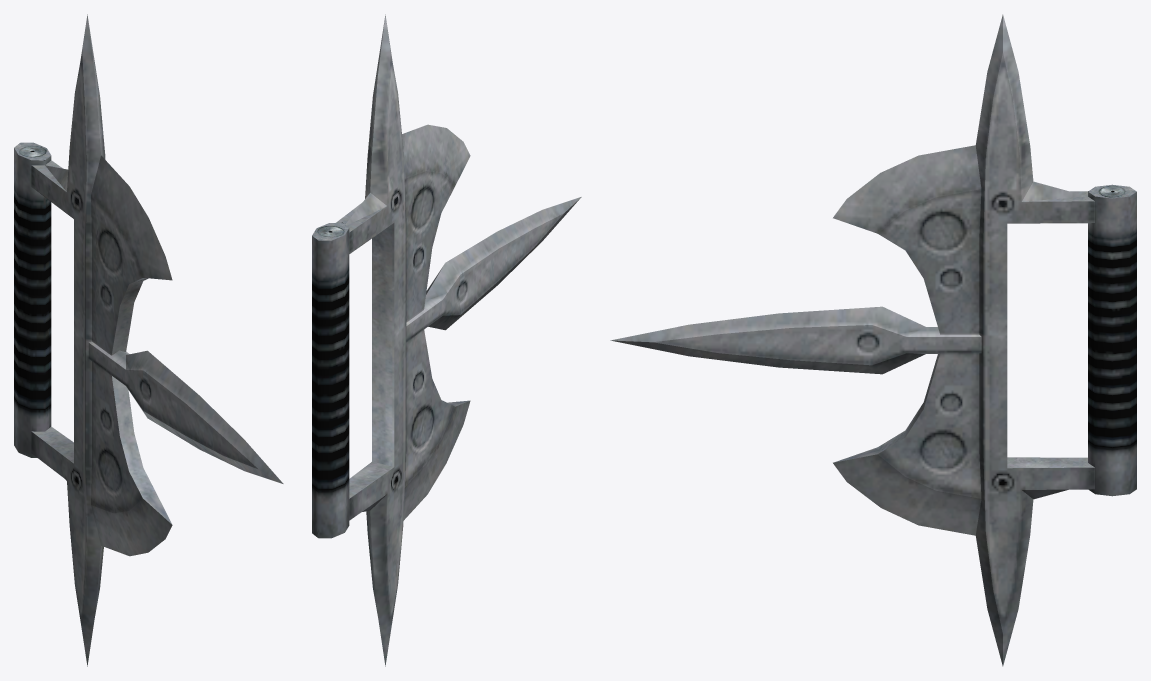
File: wp_sp_blacksun_knuckler_l0.fbx
3 renders of one model, left to right at view 1: azimuth 30°, elevation 25°; view 2: azimuth 150°, elevation 25°; view 3: azimuth 270°, elevation 25°, orthographic.
Visible parts, largest first — view 1: mesh_node; view 2: mesh_node; view 3: mesh_node.
Boxes of the visible parts, left/top/right/bottom form: mesh_node: left=14, top=14, right=283, bottom=666; mesh_node: left=312, top=14, right=581, bottom=666; mesh_node: left=610, top=14, right=1136, bottom=666.
Bounding box in the file's own units: 0.0163 × 0.3599 × 0.2632.
